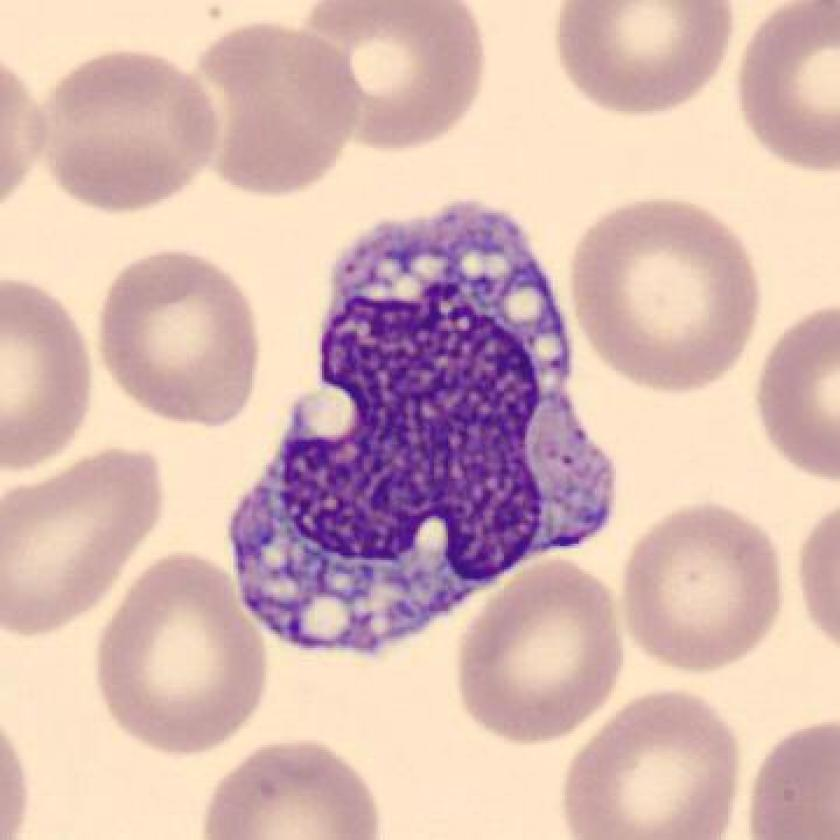monocyte: (216, 193, 636, 674)
